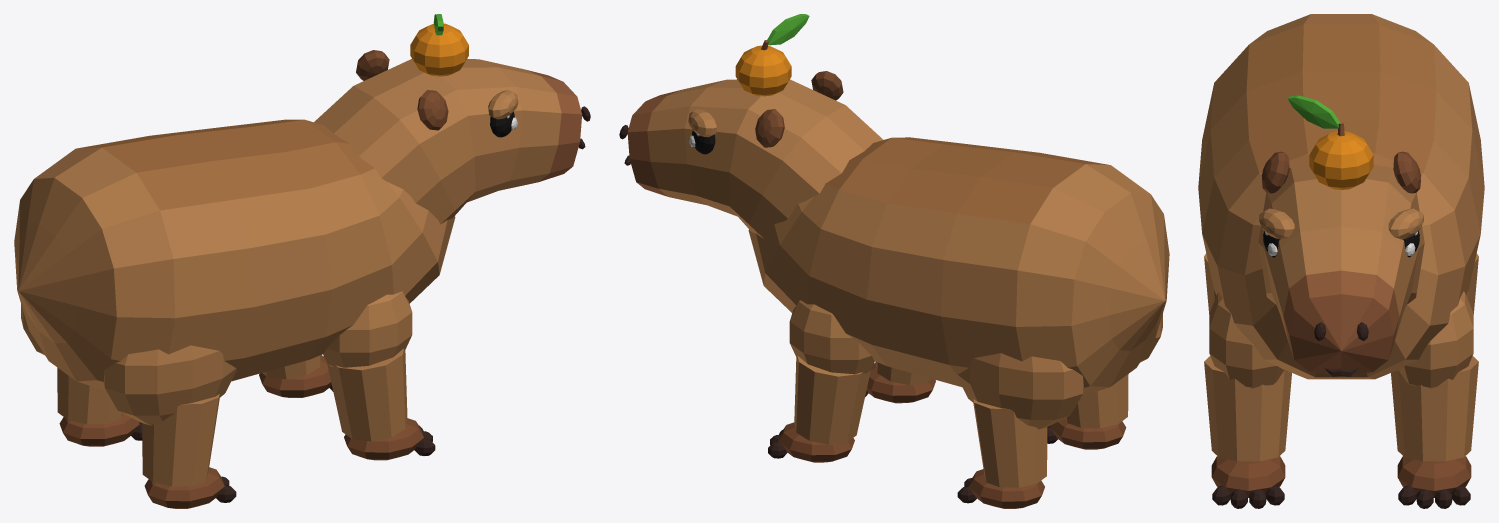
File: capybara.glb
The picture shows the model from 3 angles, left to right: view 1: azimuth 30°, elevation 25°; view 2: azimuth 150°, elevation 25°; view 3: azimuth 270°, elevation 25°; orthographic projection. The views are drawn at different scales.
Visible parts, largest first — view 1: body, head, leg_br, leg_fr, leg_bl, leg_fl; view 2: body, head, leg_bl, leg_fl, leg_br, leg_fr; view 3: body, head, leg_fl, leg_fr, leg_bl, leg_br.
Part boxes in pixels (x1=…): body: x1=14, y1=119, x2=455, y2=390; head: x1=314, y1=14, x2=590, y2=224; leg_br: x1=103, y1=345, x2=236, y2=508; leg_fr: x1=323, y1=291, x2=435, y2=460; leg_bl: x1=21, y1=304, x2=142, y2=446; leg_fl: x1=259, y1=354, x2=333, y2=397; body: x1=748, y1=137, x2=1169, y2=395; head: x1=619, y1=14, x2=883, y2=239; leg_bl: x1=957, y1=353, x2=1084, y2=508; leg_fl: x1=768, y1=300, x2=874, y2=462; leg_br: x1=1047, y1=314, x2=1162, y2=449; leg_fr: x1=865, y1=361, x2=935, y2=403; body: x1=1198, y1=14, x2=1484, y2=379; head: x1=1258, y1=95, x2=1424, y2=376; leg_fl: x1=1391, y1=291, x2=1478, y2=508; leg_fr: x1=1204, y1=292, x2=1291, y2=508; leg_bl: x1=1466, y1=253, x2=1478, y2=313; leg_br: x1=1204, y1=253, x2=1216, y2=313.
Size of the model in its own units: 1.84 by 1.24 by 0.74.
